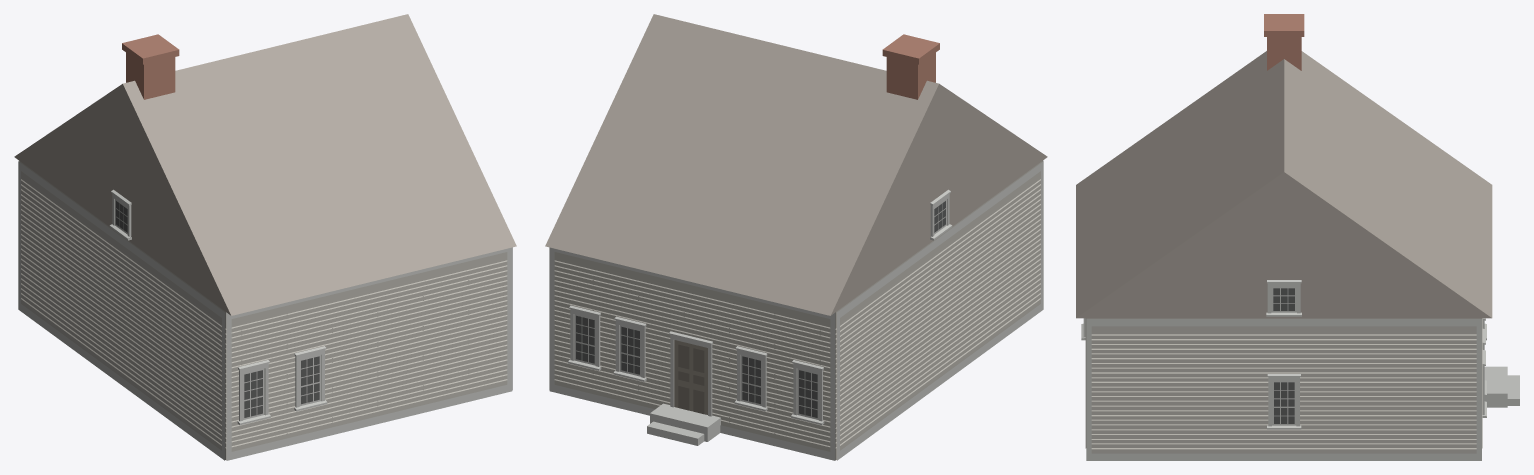
Rendered from recon_1835_blk_washington_clinton_h1_05__inferred_1835.glb.
The picture shows the model from 3 angles, left to right: view 1: azimuth 30°, elevation 25°; view 2: azimuth 150°, elevation 25°; view 3: azimuth 270°, elevation 25°; orthographic projection. The views are drawn at different scales.
Visible parts, largest first — view 1: recon_1835_blk_washington_clinton_h1_05__inferred_1835; view 2: recon_1835_blk_washington_clinton_h1_05__inferred_1835; view 3: recon_1835_blk_washington_clinton_h1_05__inferred_1835.
Boxes of the visible parts, box(x1,y1,x2,y2) form: recon_1835_blk_washington_clinton_h1_05__inferred_1835: box(14, 14, 516, 460); recon_1835_blk_washington_clinton_h1_05__inferred_1835: box(545, 14, 1047, 460); recon_1835_blk_washington_clinton_h1_05__inferred_1835: box(1076, 14, 1519, 460).
Bounding box in the file's own units: 7.89 × 8.51 × 10.78.
